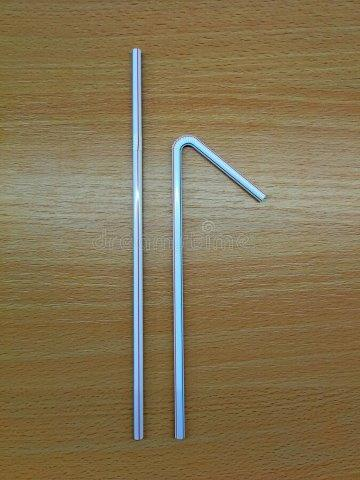sedotan: (174, 137, 266, 440), (132, 49, 144, 439)
